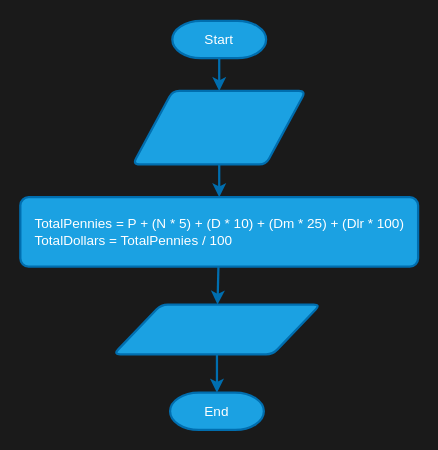
Image size: 438x450. Some labels were removed from this diagram. The centre of each missing label's shape, as x and y in pixels:
"Print TotalPennies Print TotalDollars" belongs at pixel 216 329.
"Read : P, N, Dm, Q, Dlr" belongs at pixel 218 127.
